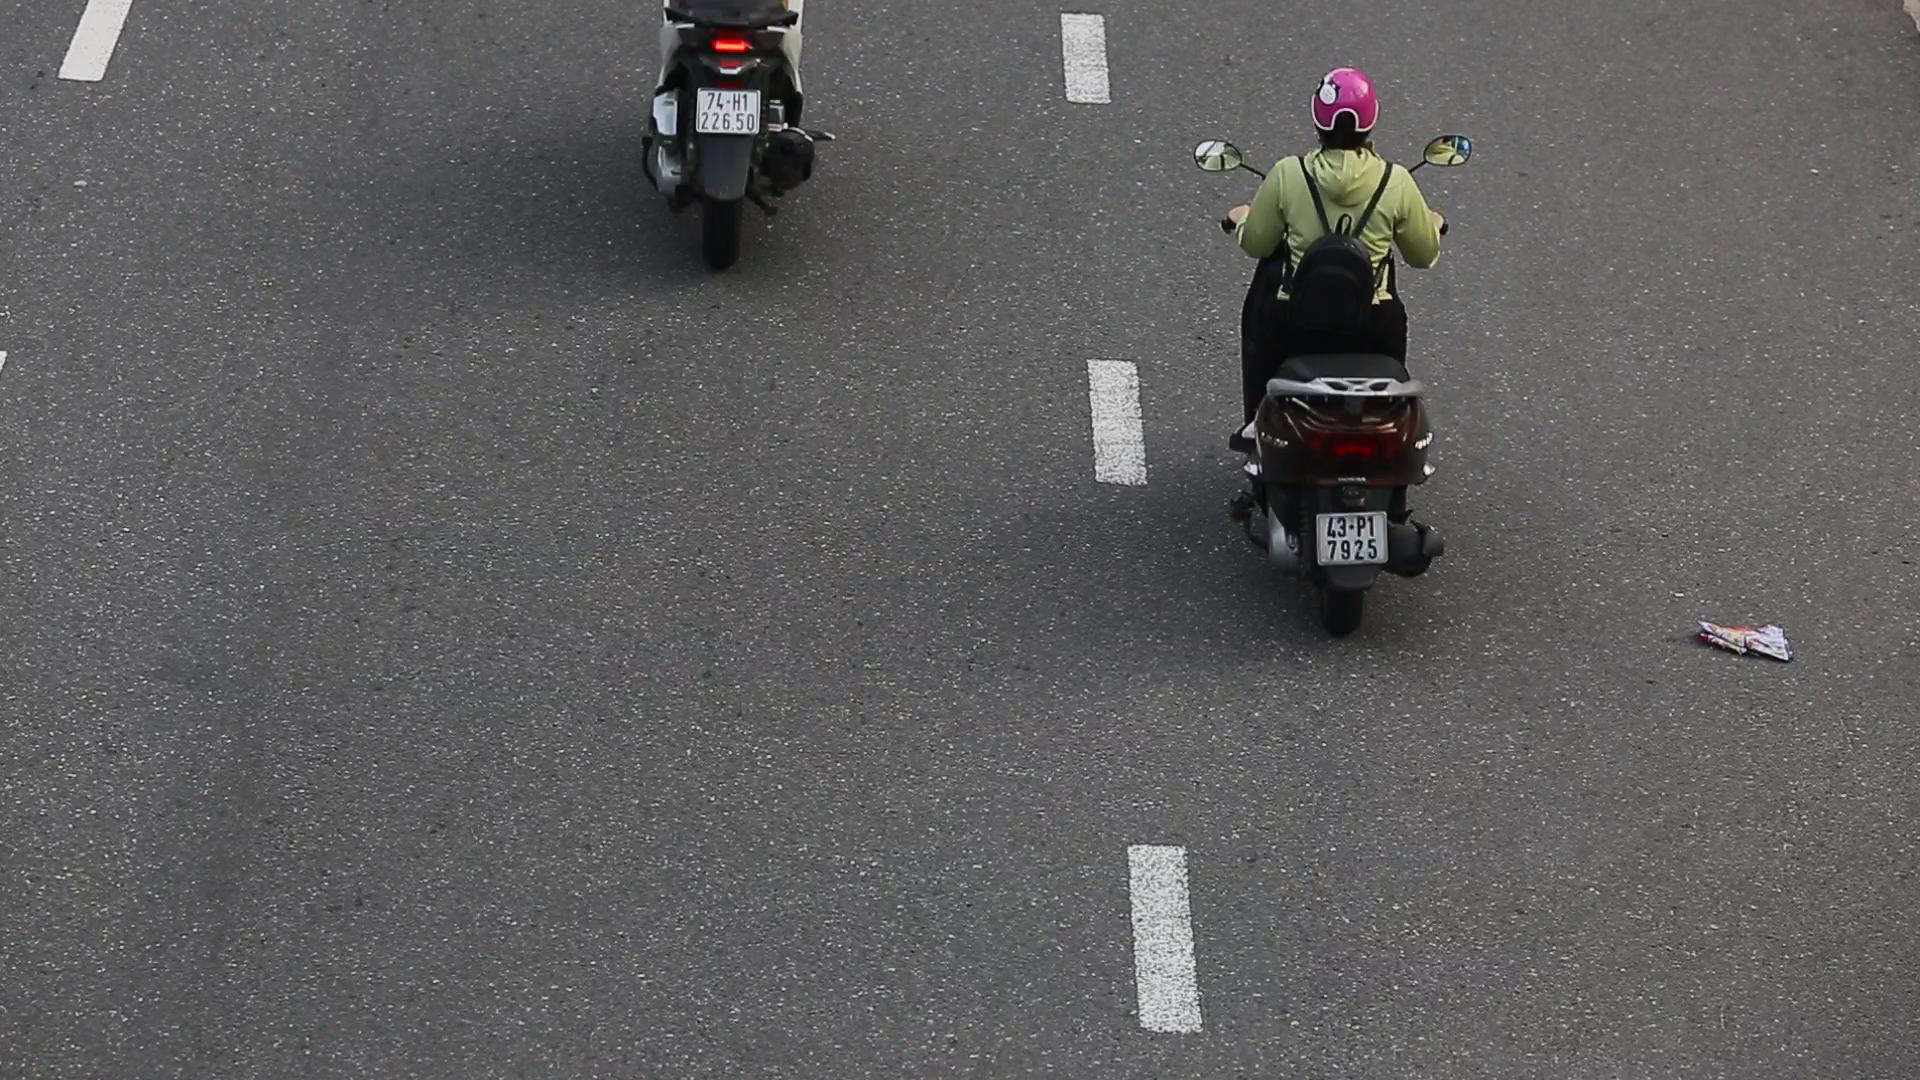motobike: (1200, 58, 1476, 649)
